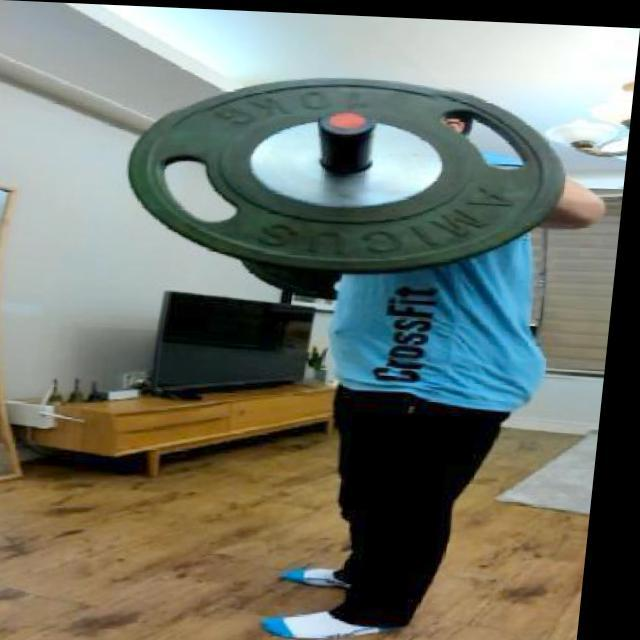barbell: (110, 65, 586, 280)
